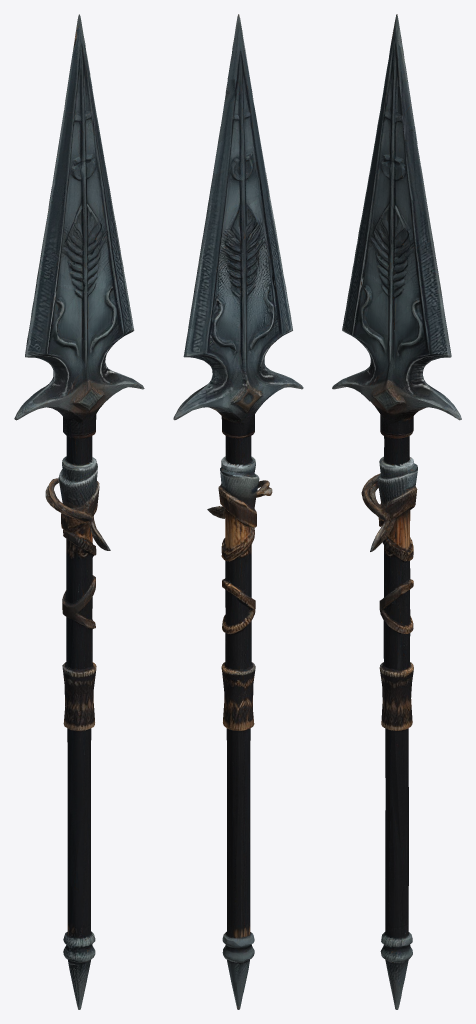
The model's file is spear_1.glb.
3 renders of one model, left to right at view 1: azimuth 30°, elevation 25°; view 2: azimuth 210°, elevation 25°; view 3: azimuth 330°, elevation 25°, orthographic.
Parts seen in each view (by area): view 1: spear; view 2: spear; view 3: spear.
Part boxes in pixels (<box>): spear: <box>14,14,144,1009</box>; spear: <box>173,14,303,1009</box>; spear: <box>332,14,461,1009</box>.
Bounding box in the file's own units: 0.2716 × 2 × 0.1509.
Materials: 1 (1 with a texture image).
